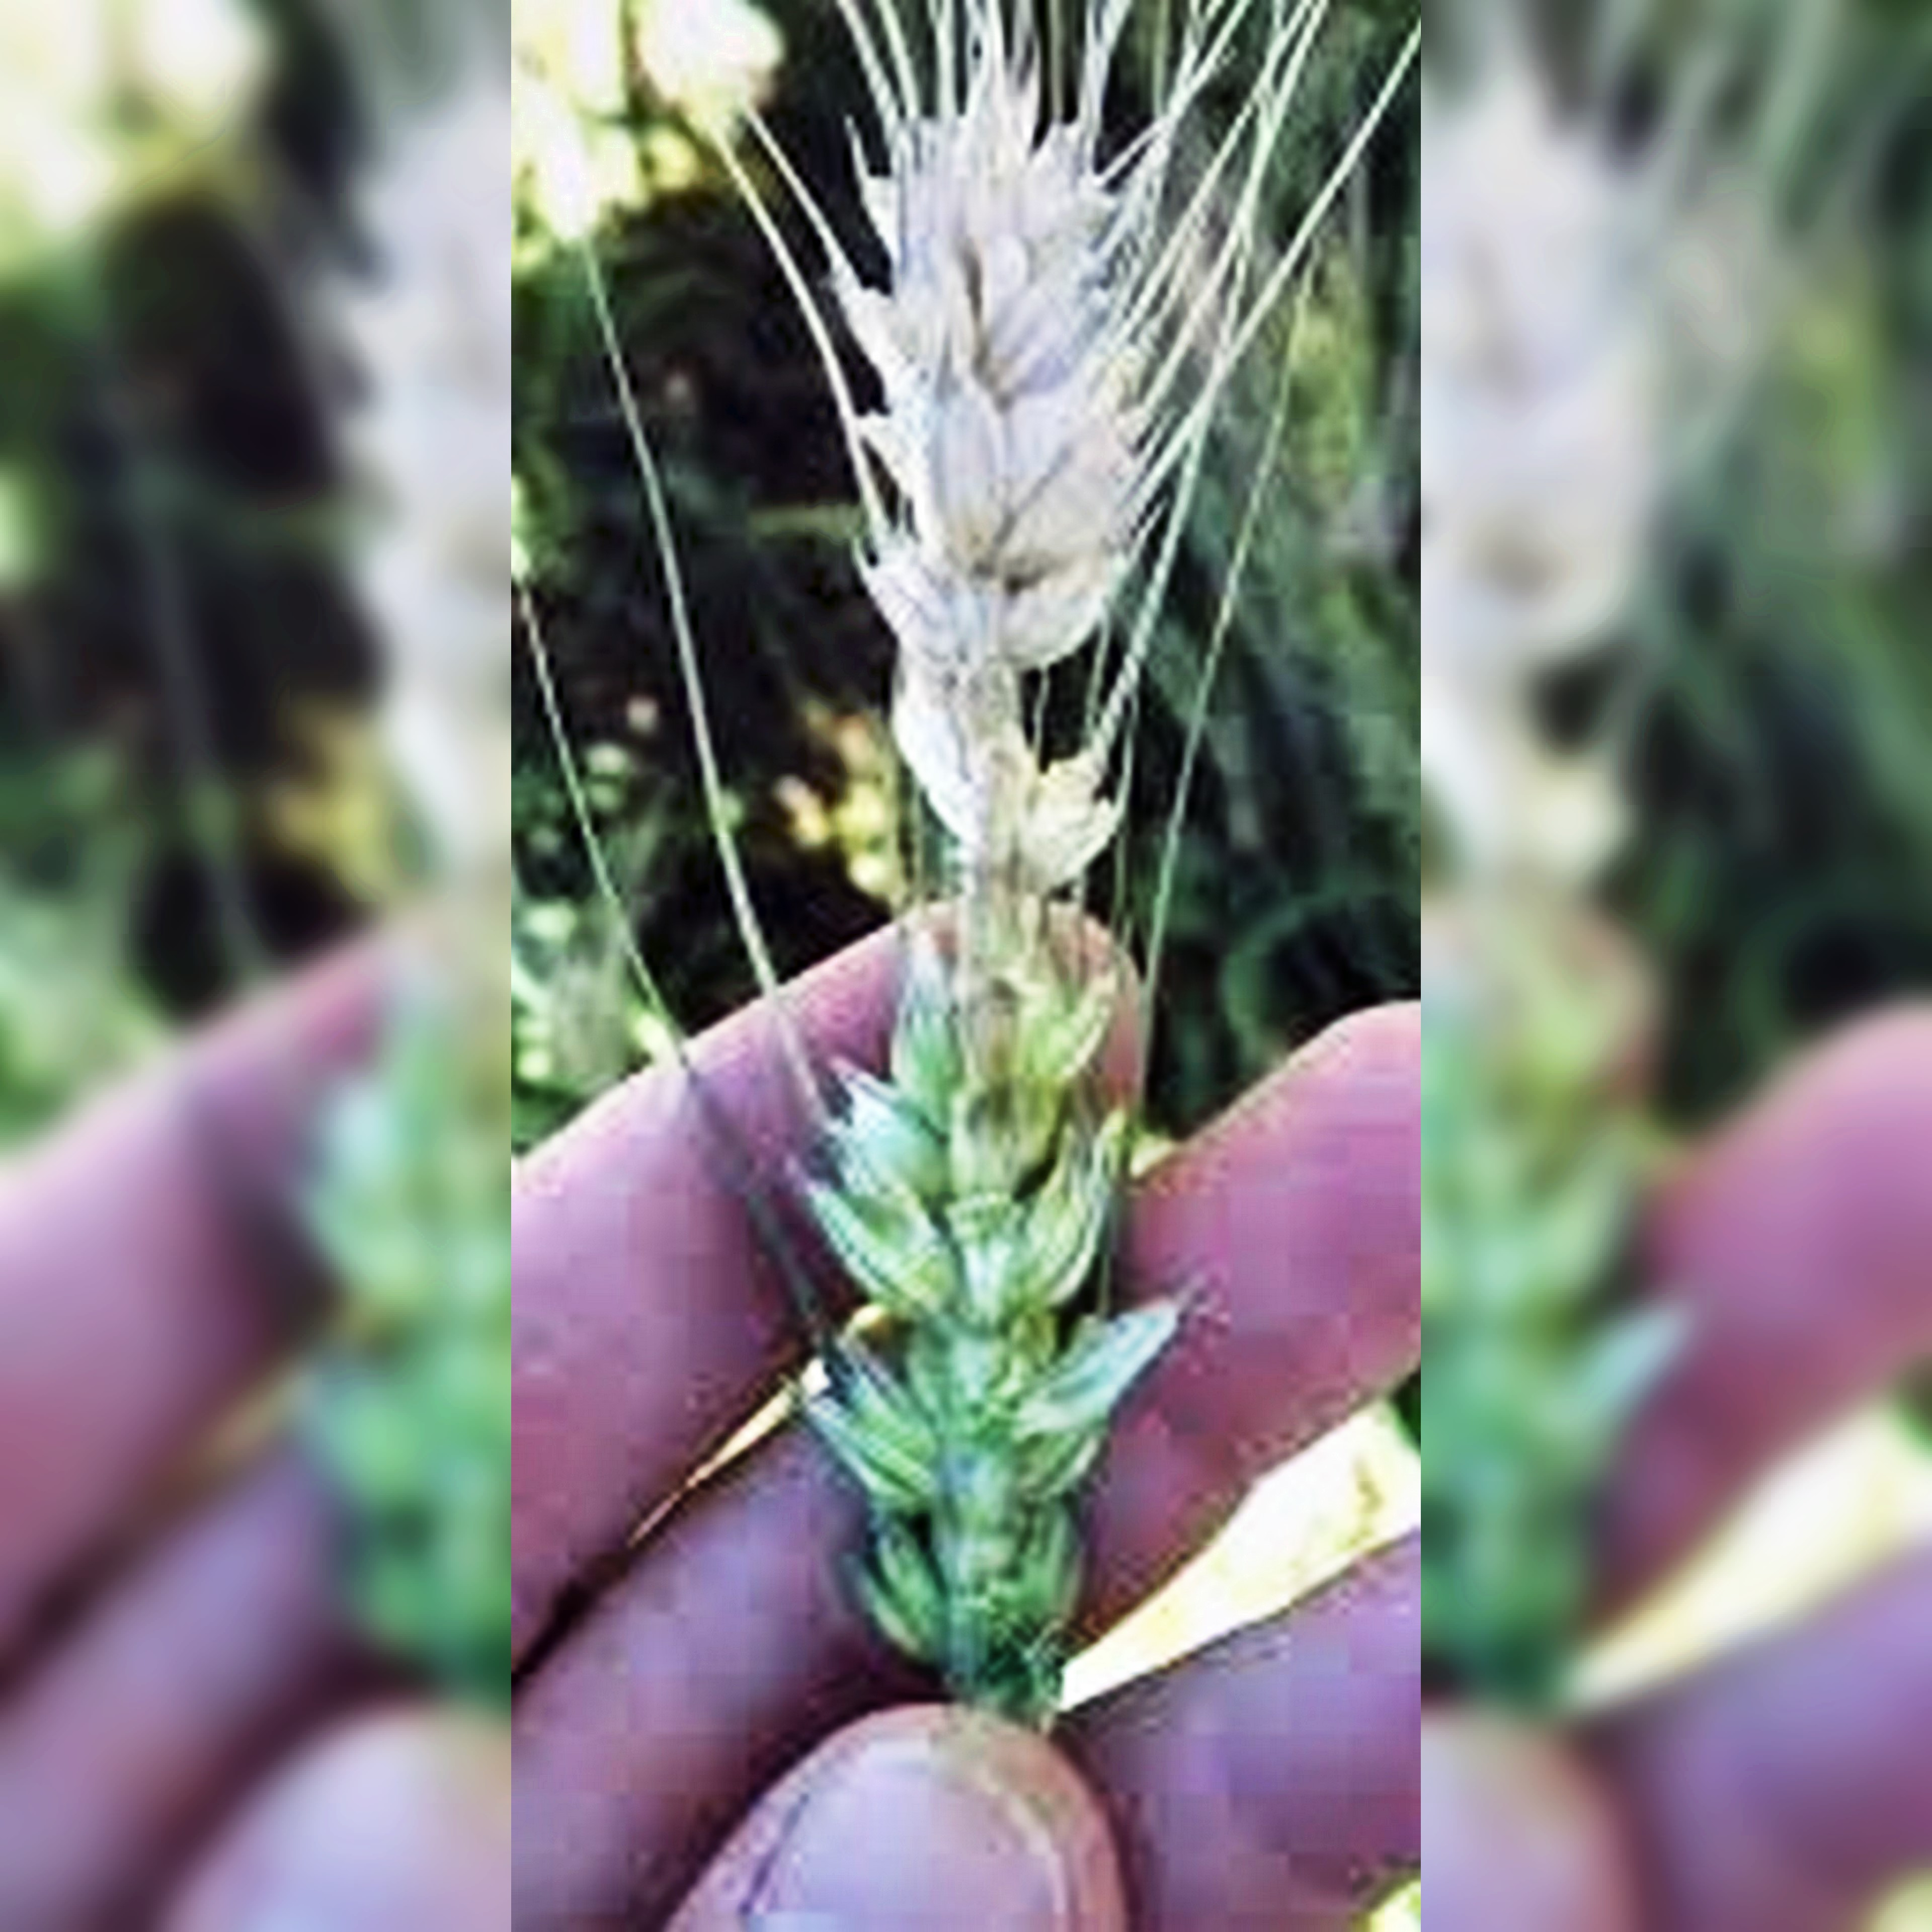Wheat scab: (720, 62, 1201, 1690)
